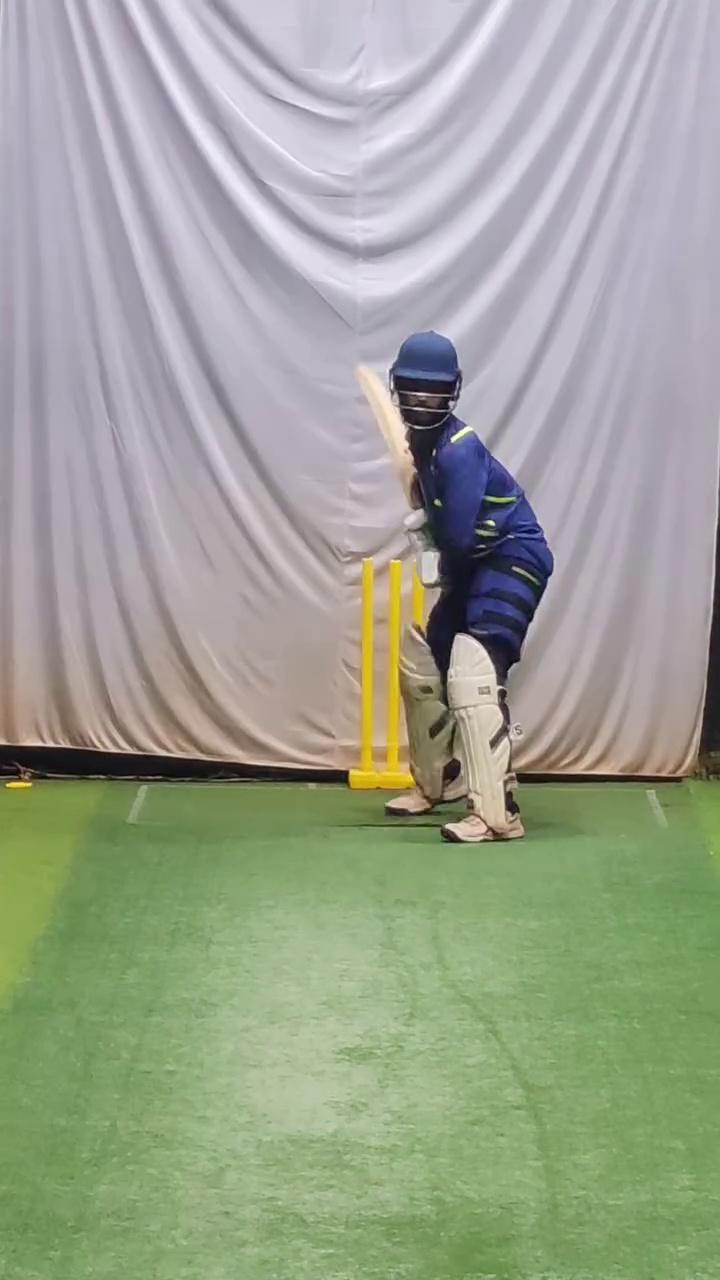bat: (354, 359, 426, 514)
